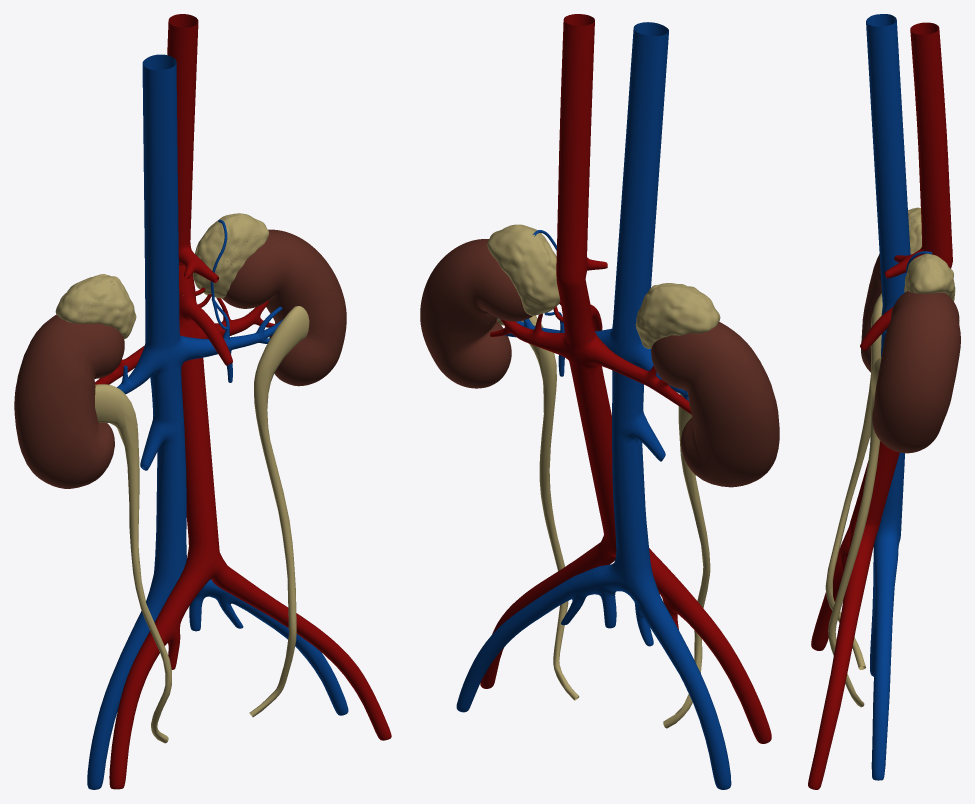
File: kidneys.glb
3 views of the same model, side by side, from view 1: azimuth 30°, elevation 25°; view 2: azimuth 150°, elevation 25°; view 3: azimuth 270°, elevation 25° (orthographic). The views are drawn at different scales.
Visible parts, largest first — view 1: polySurface57_36, polySurface56_35, polySurface54_33, polySurface55_34, polySurface59_37, polySurface53_32, polySurface61_39, polySurface60_38; view 2: polySurface57_36, polySurface56_35, polySurface54_33, polySurface55_34, polySurface61_39, polySurface60_38, polySurface59_37, polySurface53_32; view 3: polySurface56_35, polySurface57_36, polySurface55_34, polySurface59_37, polySurface53_32, polySurface61_39, polySurface54_33, polySurface60_38.
Part boxes in pixels (<box>): polySurface57_36: <box>87,54,348,789</box>; polySurface56_35: <box>95,14,391,789</box>; polySurface54_33: <box>14,314,124,488</box>; polySurface55_34: <box>222,229,346,386</box>; polySurface59_37: <box>249,306,309,717</box>; polySurface53_32: <box>95,384,171,743</box>; polySurface61_39: <box>193,213,269,298</box>; polySurface60_38: <box>55,274,136,339</box>; polySurface57_36: <box>456,22,731,789</box>; polySurface56_35: <box>480,14,771,743</box>; polySurface54_33: <box>651,321,779,487</box>; polySurface55_34: <box>420,239,532,388</box>; polySurface61_39: <box>487,224,560,315</box>; polySurface60_38: <box>635,283,720,348</box>; polySurface59_37: <box>497,315,579,700</box>; polySurface53_32: <box>663,394,710,728</box>; polySurface56_35: <box>808,22,952,789</box>; polySurface57_36: <box>866,14,932,780</box>; polySurface55_34: <box>872,290,960,453</box>; polySurface59_37: <box>828,357,881,707</box>; polySurface53_32: <box>825,293,882,669</box>; polySurface61_39: <box>904,253,955,307</box>; polySurface54_33: <box>861,254,881,372</box>; polySurface60_38: <box>908,207,921,254</box>.
Bounding box in the file's own units: 22.64 × 47.78 × 9.45.
